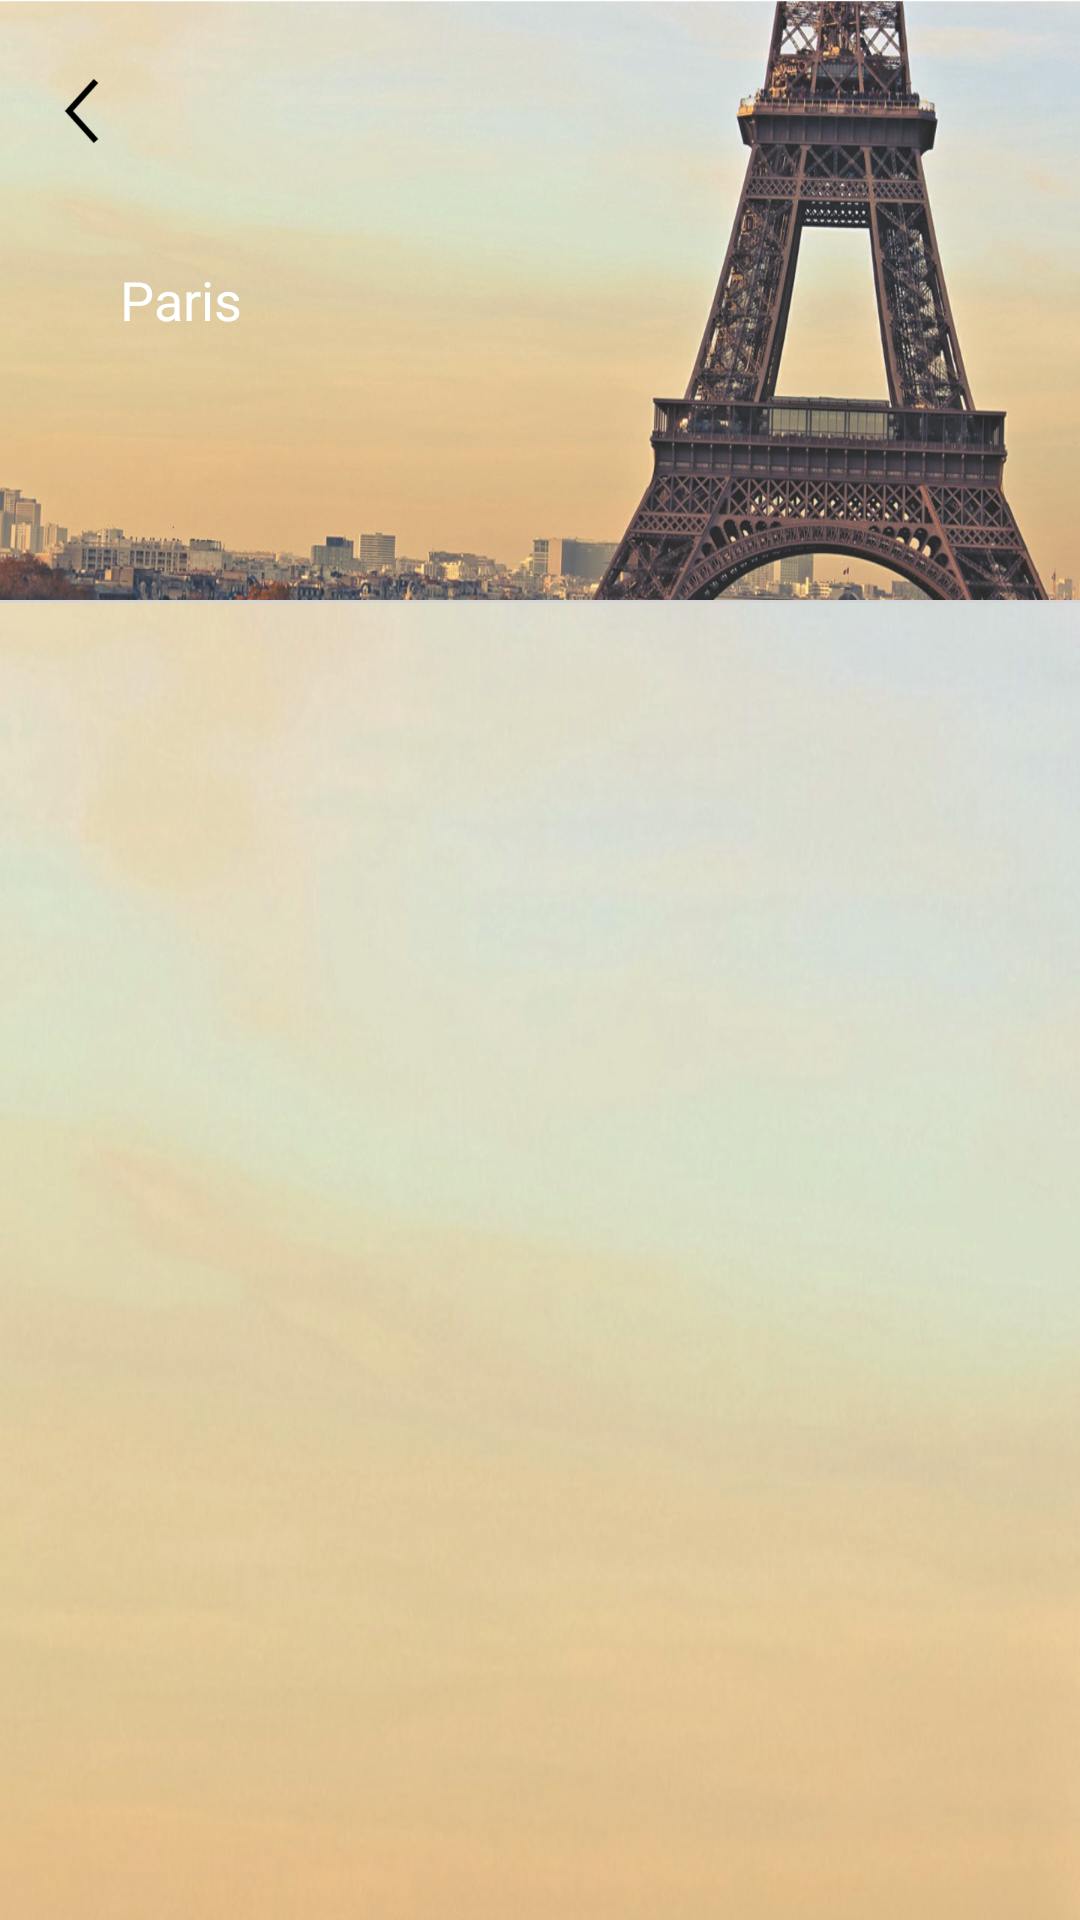

Icon bounding boxes for this 1080 x 1920 phone screenshot, format detection(x1, y1, x2, y2):
back: detection(65, 79, 99, 143)
